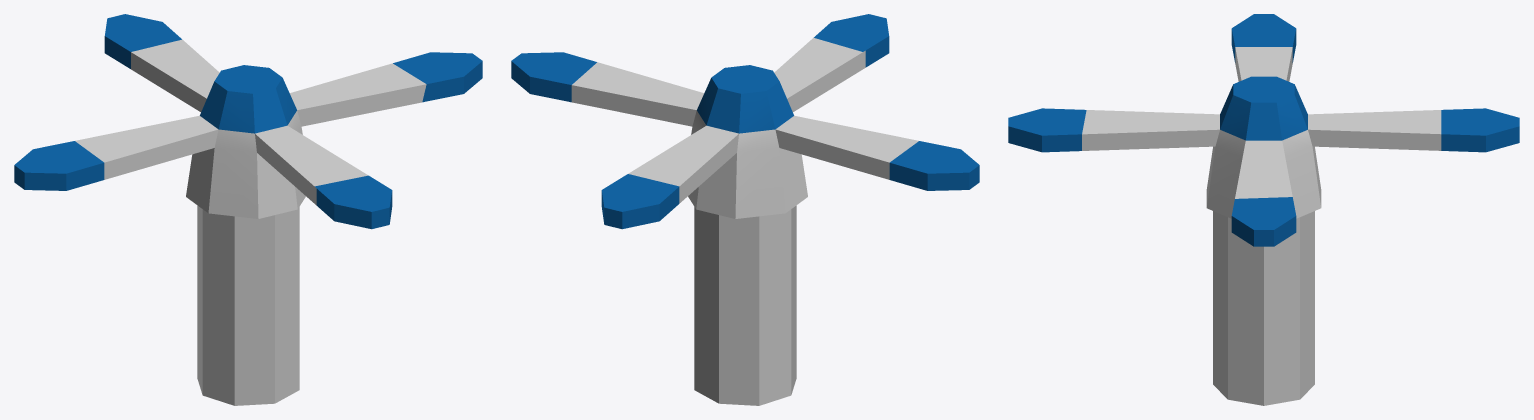
The model's file is Propellor.obj.
The picture shows the model from 3 angles, left to right: view 1: azimuth 30°, elevation 25°; view 2: azimuth 150°, elevation 25°; view 3: azimuth 270°, elevation 25°; orthographic projection. The views are drawn at different scales.
Parts seen in each view (by area): view 1: detail_propeller_11, cylinder_vertex_12; view 2: detail_propeller_11, cylinder_vertex_12; view 3: detail_propeller_11, cylinder_vertex_12.
Part boxes in pixels (x1,y1,x2,y2): detail_propeller_11: (14,14,482,229); cylinder_vertex_12: (197,205,299,405); detail_propeller_11: (511,14,979,229); cylinder_vertex_12: (694,205,796,405); detail_propeller_11: (1008,14,1519,246); cylinder_vertex_12: (1213,211,1314,405).
Size of the model in its own units: 1 by 0.6361 by 1.
